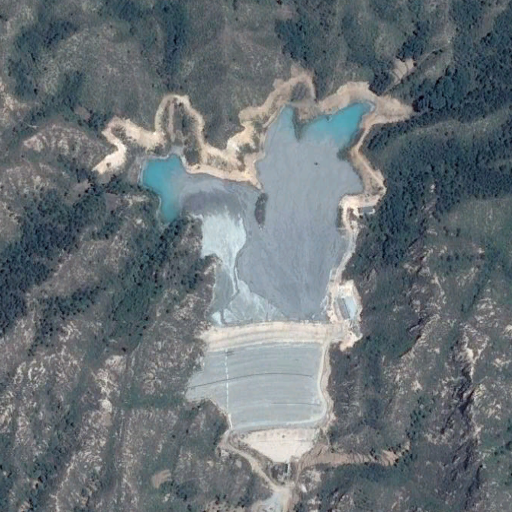tp: (141, 102, 374, 462)
